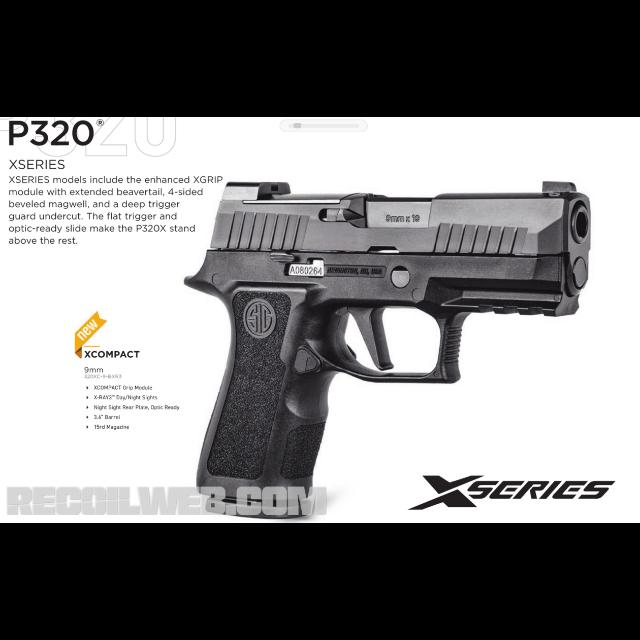handgun: (178, 174, 592, 524)
